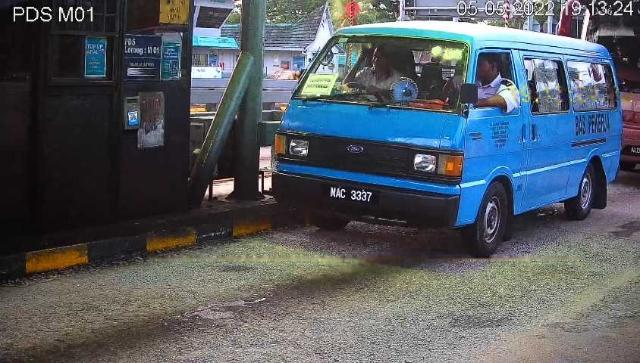License_Plate: (325, 187, 378, 208)
van: (273, 20, 623, 256)
